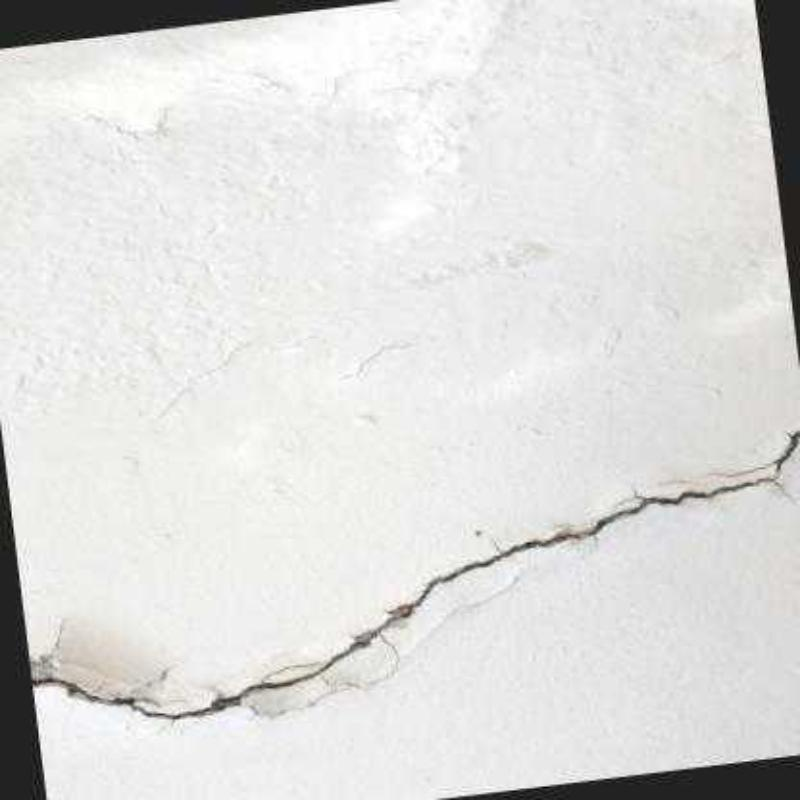crack: (28, 418, 800, 720)
